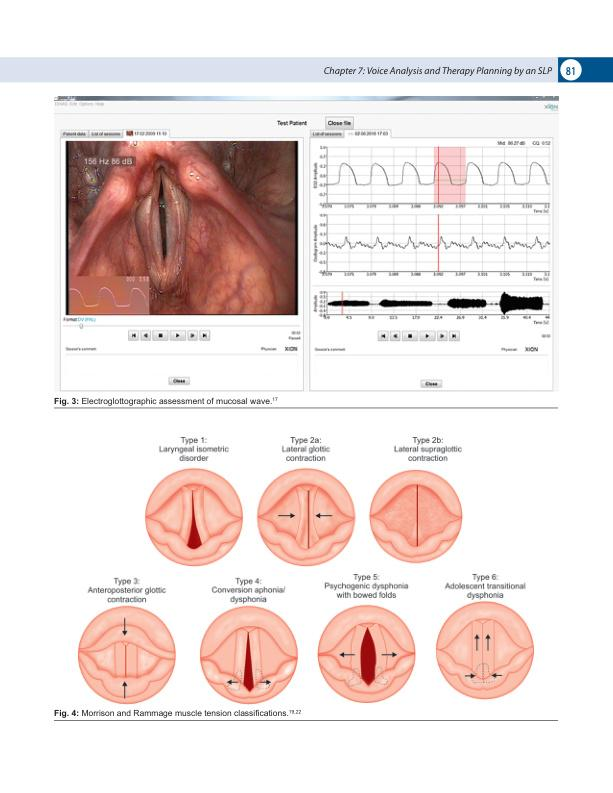caption: (53, 709, 302, 719), (53, 396, 279, 407)
header: (323, 66, 554, 77)
image: (50, 91, 565, 394), (54, 419, 557, 707)
